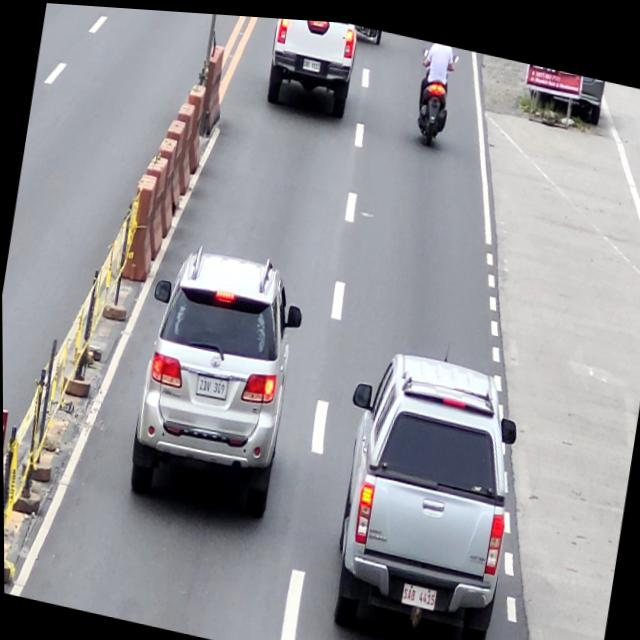Car: (313, 336, 530, 640), (122, 233, 310, 519), (263, 14, 362, 119)
License-Plate: (194, 369, 229, 400), (399, 578, 436, 604), (302, 53, 321, 69)
Motorcycle: (407, 39, 460, 143)
